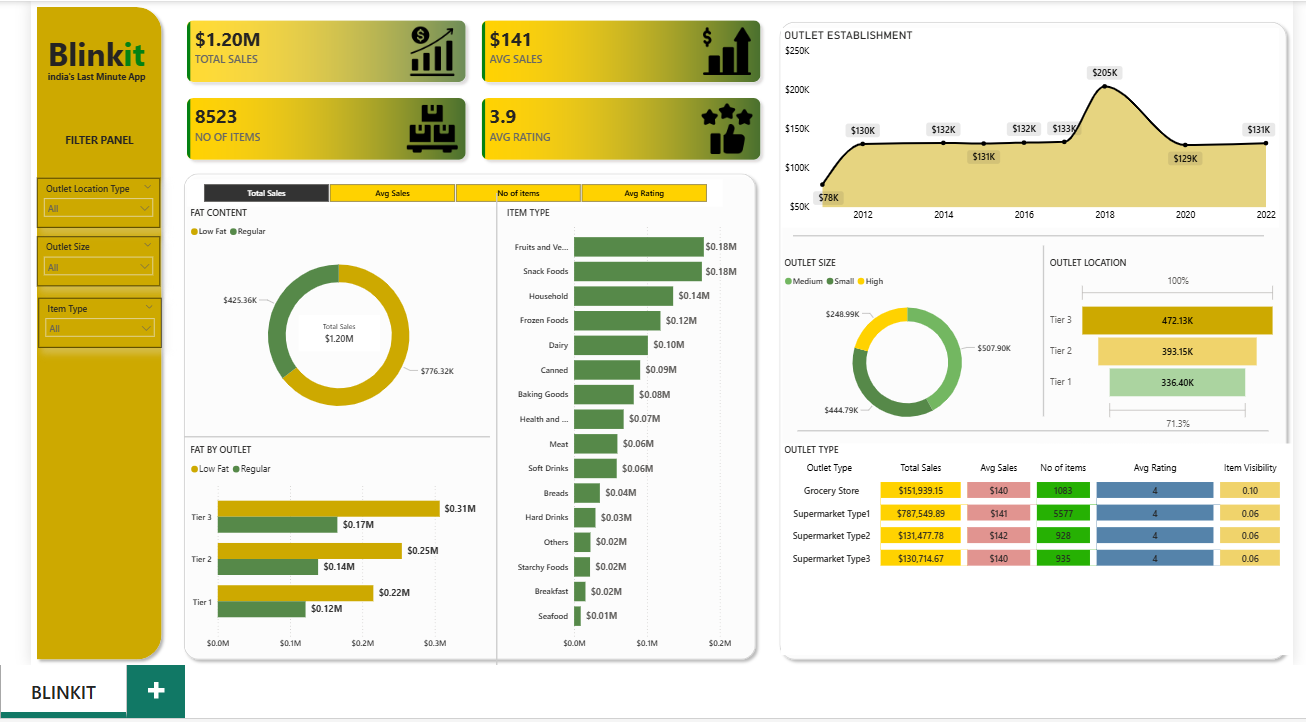

The page's visual inventory and layout, read from the dashboard file:
{"tool":"powerbi","page":{"name":"BLINKIT","canvas":[1900,1000],"ordinal":0},"visuals":[{"type":"shape","box":[0,0,205.6,1000.8],"z":0},{"type":"textbox","box":[19.9,39.8,164.5,75.9],"z":1000},{"type":"textbox","box":[19.9,99.4,186.1,34.3],"z":2000},{"type":"cardVisual","fields":{"Data":["BlinkIT Grocery Data.Total Sales","BlinkIT Grocery Data.Avg Sales","BlinkIT Grocery Data.Number of items","BlinkIT Grocery Data.Avg Rating"]},"box":[205.6,0,924,268.8],"z":3000},{"type":"shape","box":[221.4,250.8,878.8,750],"z":4000},{"type":"donutChart","title":"FAT CONTENT","fields":{"Y":["BlinkIT Grocery Data.Total Sales"],"Category":["BlinkIT Grocery Data.Item Fat Content"]},"box":[234.9,309.5,456.3,341],"z":5000},{"type":"slicer","fields":{"Values":["Metrics.Metrics"]},"box":[234.9,268.8,806.5,40.7],"z":6000},{"type":"cardVisual","fields":{"Data":["BlinkIT Grocery Data.Total Sales"]},"box":[397.6,467.6,133.3,65.5],"z":7000},{"type":"clusteredBarChart","title":"FAT BY  OUTLET","fields":{"Y":["BlinkIT Grocery Data.Total Sales"],"Category":["BlinkIT Grocery Data.Outlet Location Type"],"Series":["BlinkIT Grocery Data.Item Fat Content"]},"box":[234.9,666.4,456.3,318.5],"z":8000},{"type":"shape","box":[230.4,625.8,460.9,61],"z":9000},{"type":"shape","box":[691.3,289.2,20.3,711.6],"z":10000},{"type":"clusteredBarChart","title":"ITEM TYPE","fields":{"Y":["BlinkIT Grocery Data.Total Sales"],"Category":["BlinkIT Grocery Data.Item Type"]},"box":[711.6,309.5,372.7,675.5],"z":11000},{"type":"shape","box":[1118.2,22.6,781.6,978.2],"z":12000},{"type":"lineChart","title":"OUTLET ESTABLISHMENT ","fields":{"Category":["BlinkIT Grocery Data.Outlet Establishment Year"],"Y":["BlinkIT Grocery Data.Total Sales"]},"box":[1129.5,40.7,750,300.5],"z":13000},{"type":"shape","box":[1147.6,323,709.4,61],"z":14000},{"type":"donutChart","title":"OUTLET SIZE","fields":{"Y":["BlinkIT Grocery Data.Total Sales"],"Category":["BlinkIT Grocery Data.Outlet Size"]},"box":[1129.5,384,379.5,273.3],"z":15000},{"type":"shape","box":[1502.3,368.2,45.2,257.5],"z":17000},{"type":"funnel","title":"OUTLET LOCATION","fields":{"Y":["Sum(BlinkIT Grocery Data.Sales)"],"Category":["BlinkIT Grocery Data.Outlet Location Type"]},"box":[1529.4,384,350.2,268.8],"z":17001},{"type":"shape","box":[1154.4,616.7,709.4,61],"z":17002},{"type":"pivotTable","title":"OUTLET TYPE","fields":{"Rows":["BlinkIT Grocery Data.Outlet Type"],"Values":["BlinkIT Grocery Data.Total Sales","BlinkIT Grocery Data.Avg Sales","BlinkIT Grocery Data.No of items","BlinkIT Grocery Data.Avg Rating","Avg(BlinkIT Grocery Data.Item Visibility)"]},"box":[1129.5,646.1,770.3,338.9],"z":17003},{"type":"slicer","fields":{"Values":["BlinkIT Grocery Data.Outlet Location Type"]},"box":[9,266.6,185.2,74.5],"z":17004},{"type":"slicer","fields":{"Values":["BlinkIT Grocery Data.Outlet Size"]},"box":[9,354.7,185.2,74.5],"z":17005},{"type":"slicer","fields":{"Values":["BlinkIT Grocery Data.Item Type"]},"box":[11.3,447.3,185.2,74.5],"z":17006},{"type":"textbox","box":[11.3,192,183,58.7],"z":17007}]}

Visuals, with their boxes on the page's 1900x1000 design canvas (x1, y1, x2, y2). These are canvas units, not pixel positions in the 1306x722 screenshot, which may show the page scaled, cropped or inside an application window:
shape: (left=0, top=0, right=206, bottom=1001)
textbox: (left=20, top=40, right=184, bottom=116)
textbox: (left=20, top=99, right=206, bottom=134)
cardVisual - BlinkIT Grocery Data.Total Sales x BlinkIT Grocery Data.Avg Sales: (left=206, top=0, right=1130, bottom=269)
shape: (left=221, top=251, right=1100, bottom=1001)
"FAT CONTENT" donutChart: (left=235, top=310, right=691, bottom=650)
slicer - Metrics.Metrics: (left=235, top=269, right=1041, bottom=310)
cardVisual - BlinkIT Grocery Data.Total Sales: (left=398, top=468, right=531, bottom=533)
"FAT BY  OUTLET" clusteredBarChart: (left=235, top=666, right=691, bottom=985)
shape: (left=230, top=626, right=691, bottom=687)
shape: (left=691, top=289, right=712, bottom=1001)
"ITEM TYPE" clusteredBarChart: (left=712, top=310, right=1084, bottom=985)
shape: (left=1118, top=23, right=1900, bottom=1001)
"OUTLET ESTABLISHMENT " lineChart: (left=1130, top=41, right=1880, bottom=341)
shape: (left=1148, top=323, right=1857, bottom=384)
"OUTLET SIZE" donutChart: (left=1130, top=384, right=1509, bottom=657)
shape: (left=1502, top=368, right=1548, bottom=626)
"OUTLET LOCATION" funnel: (left=1529, top=384, right=1880, bottom=653)
shape: (left=1154, top=617, right=1864, bottom=678)
"OUTLET TYPE" pivotTable: (left=1130, top=646, right=1900, bottom=985)
slicer - BlinkIT Grocery Data.Outlet Location Type: (left=9, top=267, right=194, bottom=341)
slicer - BlinkIT Grocery Data.Outlet Size: (left=9, top=355, right=194, bottom=429)
slicer - BlinkIT Grocery Data.Item Type: (left=11, top=447, right=196, bottom=522)
textbox: (left=11, top=192, right=194, bottom=251)
